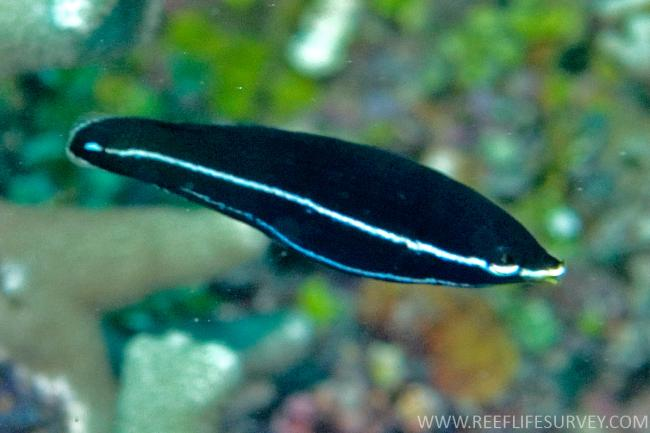fish: (64, 113, 567, 286)
